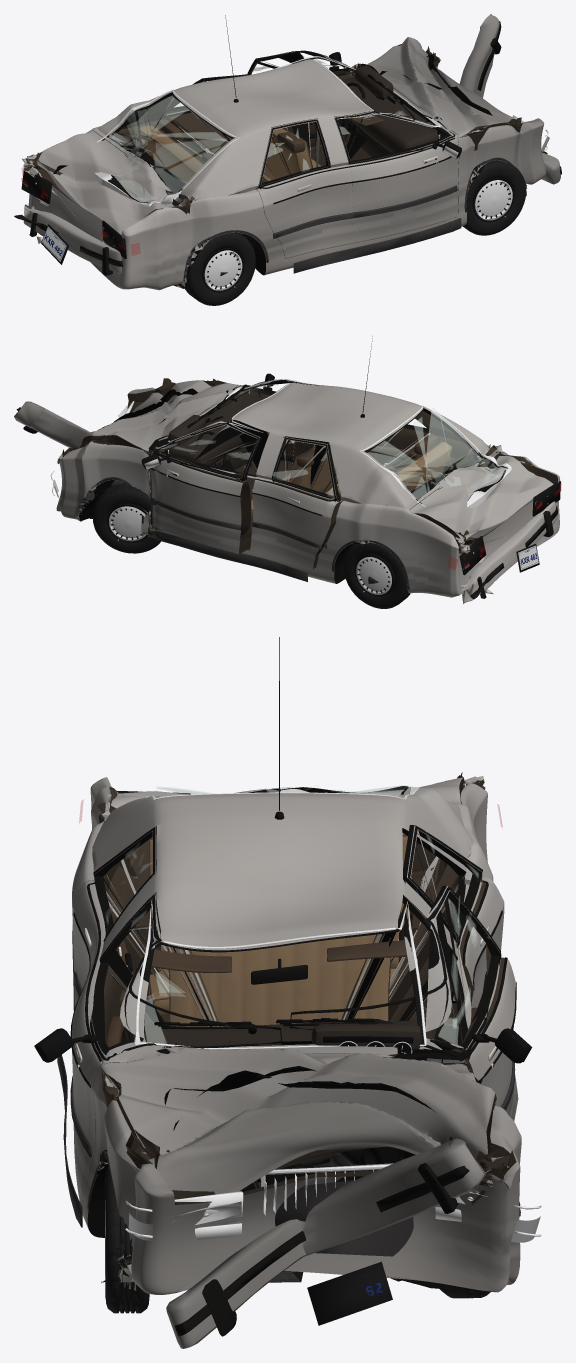
The model's file is sedan87_front_d2_lod1.glb.
The picture shows the model from 3 angles, top to bottom: view 1: azimuth 30°, elevation 25°; view 2: azimuth 150°, elevation 25°; view 3: azimuth 270°, elevation 25°; orthographic projection. The views are drawn at different scales.
Parts seen in each view (by area): view 1: Body, Interior, Door_FR, Trunk, Glass, Door_RR, Hood, Wheel_RR_mesh, Wheel_FR_mesh, Trim, Bumper_R, Bumper_F (+6 smaller); view 2: Body, Door_FL, Interior, Glass, Trunk, Door_RL, Hood, Wheel_FL_mesh, Wheel_RL_mesh, Bumper_R, Trim, Bumper_F (+8 smaller); view 3: Body, Hood, Interior, Bumper_F, Door_FL, Ends, Door_FR, Glass, Door_RL, Engine, Trim_FR, Trim_FL (+7 smaller).
Part boxes in pixels (x1,y1,x2,y2): Body: [22, 46, 546, 290]; Interior: [139, 65, 441, 182]; Door_FR: [334, 111, 458, 242]; Trunk: [32, 130, 180, 235]; Glass: [94, 56, 441, 207]; Door_RR: [255, 118, 356, 258]; Hood: [364, 37, 516, 137]; Wheel_RR_mesh: [185, 232, 255, 305]; Wheel_FR_mesh: [462, 160, 526, 235]; Trim: [183, 15, 526, 282]; Bumper_R: [14, 204, 122, 275]; Bumper_F: [459, 14, 561, 184]; Body: [56, 378, 559, 597]; Door_FL: [148, 423, 262, 554]; Interior: [168, 391, 451, 519]; Glass: [168, 379, 511, 507]; Trunk: [409, 451, 553, 543]; Door_RL: [250, 436, 340, 569]; Hood: [79, 380, 237, 452]; Wheel_FL_mesh: [92, 483, 160, 553]; Wheel_RL_mesh: [343, 543, 410, 608]; Bumper_R: [461, 501, 557, 604]; Trim: [76, 336, 409, 589]; Bumper_F: [14, 401, 89, 448]; Body: [72, 776, 521, 1294]; Hood: [100, 1048, 496, 1194]; Interior: [122, 833, 436, 1054]; Bumper_F: [166, 1138, 485, 1348]; Door_FL: [400, 885, 518, 1121]; Ends: [116, 790, 541, 1325]; Door_FR: [72, 893, 170, 1201]; Glass: [129, 785, 426, 1049]; Door_RL: [403, 825, 504, 1043]; Engine: [253, 1147, 413, 1256]; Trim_FR: [34, 894, 281, 1157]; Trim_FL: [289, 886, 532, 1110].
Size of the model in its own units: 4.57 by 2.15 by 2.13.
Materials: 32 (5 with a texture image).
